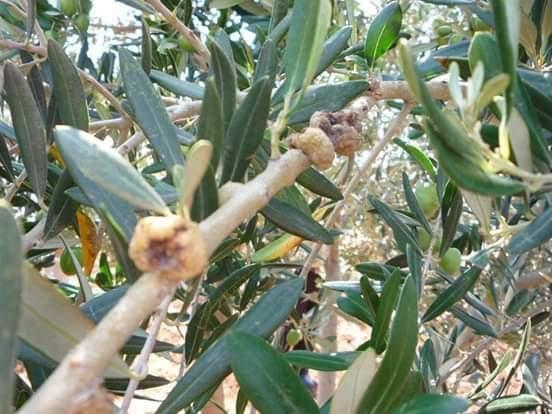Tuberculosis: (125, 212, 210, 278), (288, 128, 336, 168)
